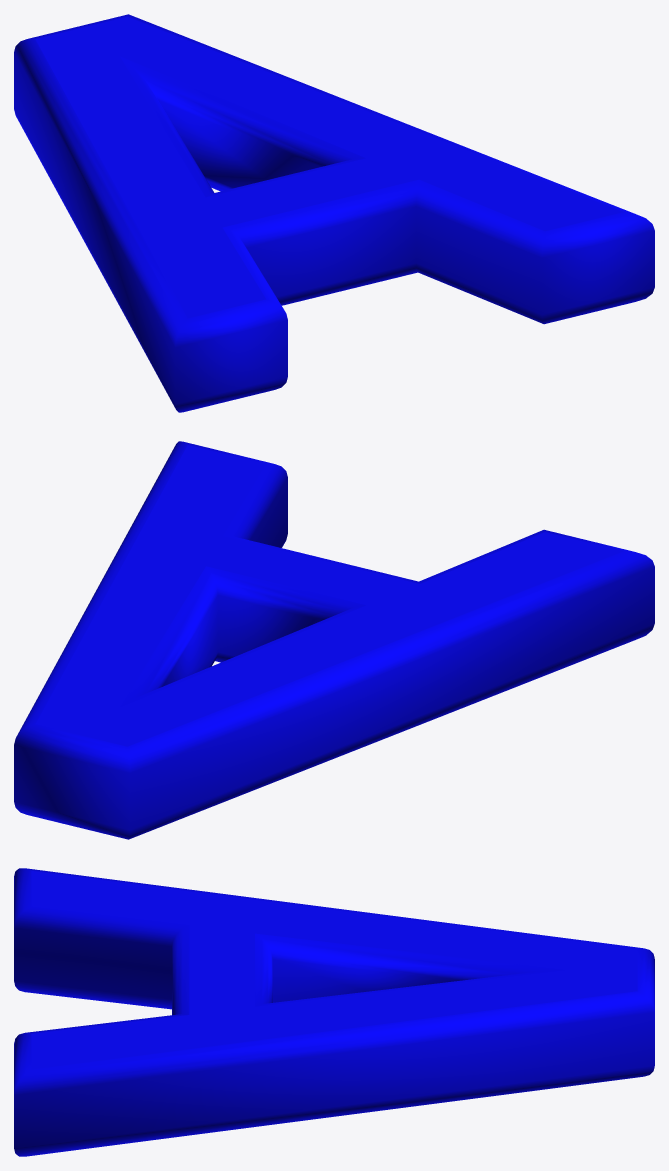
The picture shows the model from 3 angles, top to bottom: view 1: azimuth 30°, elevation 25°; view 2: azimuth 150°, elevation 25°; view 3: azimuth 270°, elevation 25°; orthographic projection. The views are drawn at different scales.
Parts seen in each view (by area): view 1: 65; view 2: 65; view 3: 65.
Part boxes in pixels (<box>): 65: <box>14,14,654,412</box>; 65: <box>14,441,654,839</box>; 65: <box>14,868,654,1156</box>.
Bounding box in the file's own units: 0.8879 × 0.16 × 1.1.
